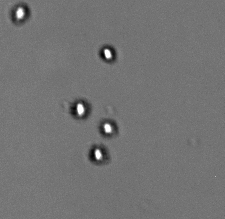Living Cell: (11, 2, 30, 24), (89, 145, 108, 164), (71, 99, 89, 117), (99, 120, 117, 137), (100, 45, 115, 61)
